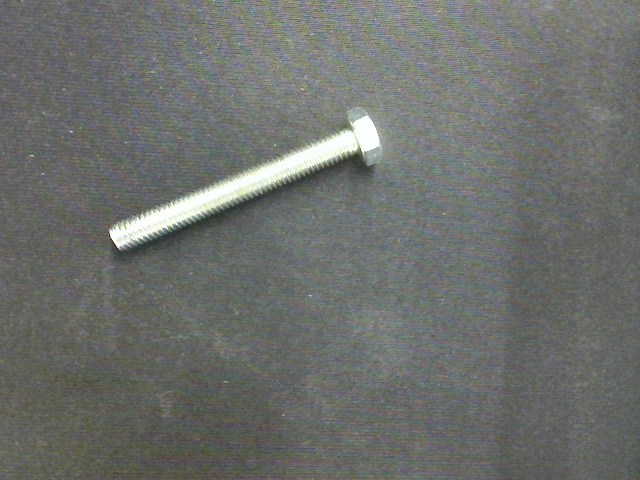Screw: (109, 106, 383, 253)
